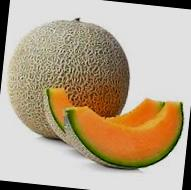Melon Ripe: (2, 15, 133, 144), (56, 89, 186, 176)
